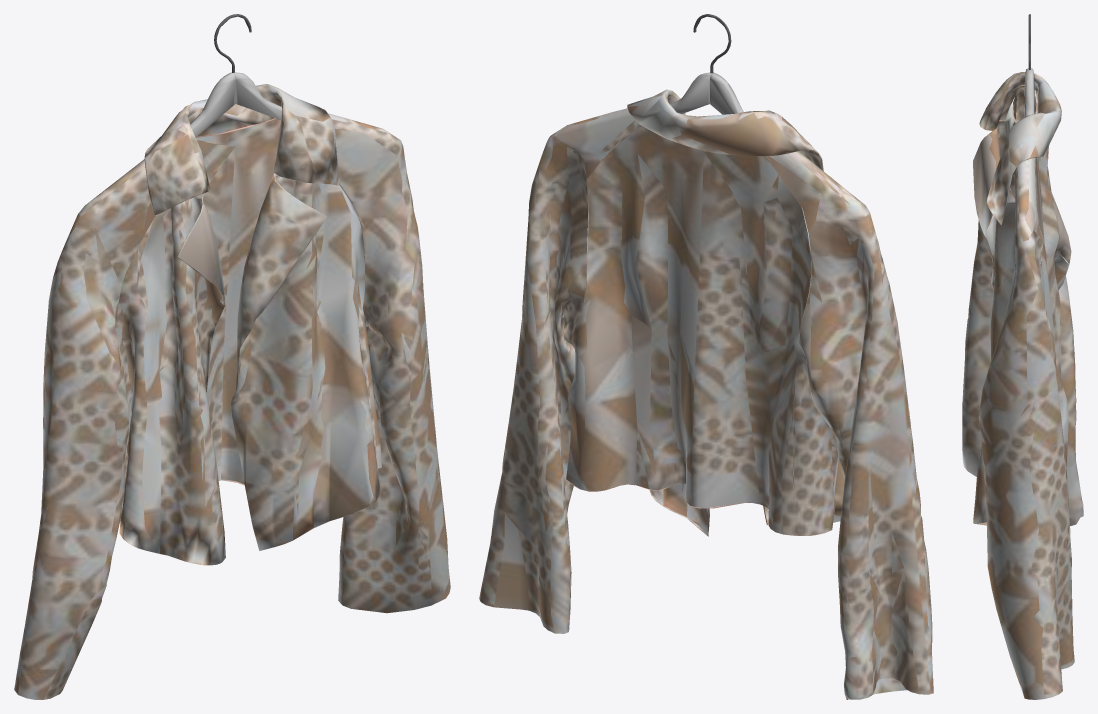
The model's file is clothes06_jacket_02.glb.
3 views of the same model, side by side, from view 1: azimuth 30°, elevation 25°; view 2: azimuth 150°, elevation 25°; view 3: azimuth 270°, elevation 25° (orthographic). The views are drawn at different scales.
Visible parts, largest first — view 1: clothes06_jacket_02_StaticMeshComponent0, clothes06_hanger2_StaticMeshComponent0; view 2: clothes06_jacket_02_StaticMeshComponent0, clothes06_hanger2_StaticMeshComponent0; view 3: clothes06_jacket_02_StaticMeshComponent0, clothes06_hanger2_StaticMeshComponent0.
Boxes of the visible parts, box(x1,y1,x2,y2) form: clothes06_jacket_02_StaticMeshComponent0: box(14, 84, 450, 699); clothes06_hanger2_StaticMeshComponent0: box(190, 14, 281, 137); clothes06_jacket_02_StaticMeshComponent0: box(479, 89, 933, 699); clothes06_hanger2_StaticMeshComponent0: box(572, 14, 796, 164); clothes06_jacket_02_StaticMeshComponent0: box(962, 72, 1083, 699); clothes06_hanger2_StaticMeshComponent0: box(1024, 14, 1035, 231).
Size of the model in its own units: 0.5561 by 0.7724 by 0.143.
4 materials, 1 textured.
